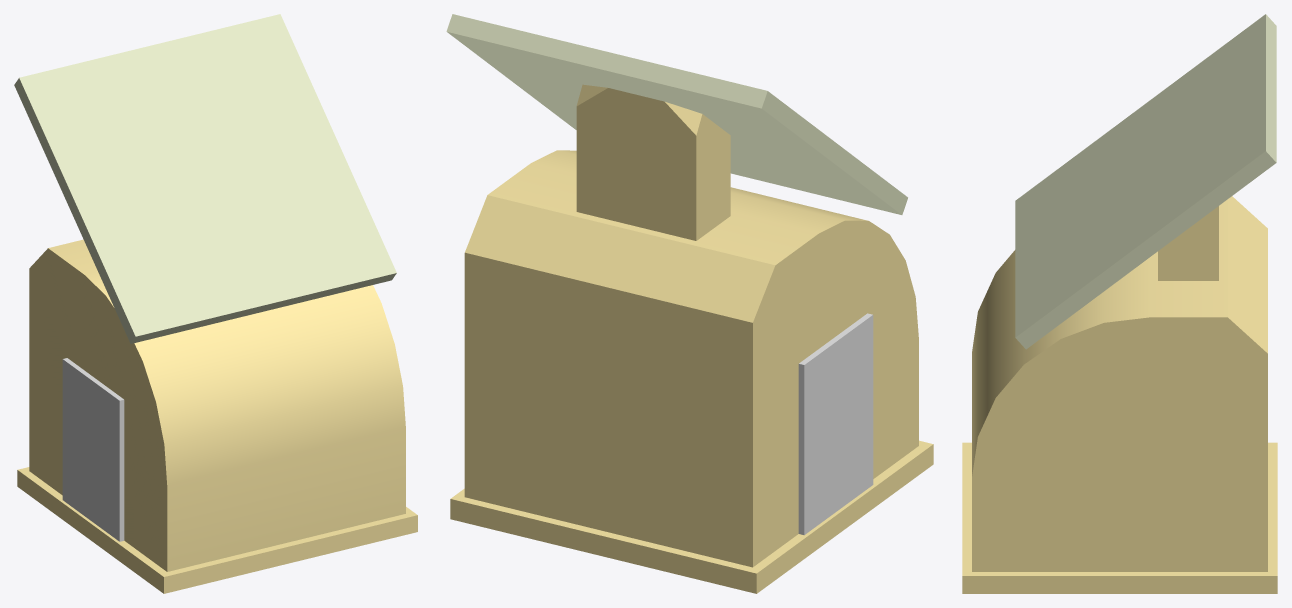
Rendered from sunPanel.fbx.
The picture shows the model from 3 angles, left to right: view 1: azimuth 30°, elevation 25°; view 2: azimuth 150°, elevation 25°; view 3: azimuth 270°, elevation 25°; orthographic projection. The views are drawn at different scales.
Parts seen in each view (by area): view 1: sunPanel; view 2: sunPanel; view 3: sunPanel.
Boxes of the visible parts, bbox=[...] form: sunPanel: bbox=[14, 14, 417, 593]; sunPanel: bbox=[446, 14, 933, 593]; sunPanel: bbox=[962, 14, 1277, 593].
Size of the model in its own units: 219 by 331 by 213.
